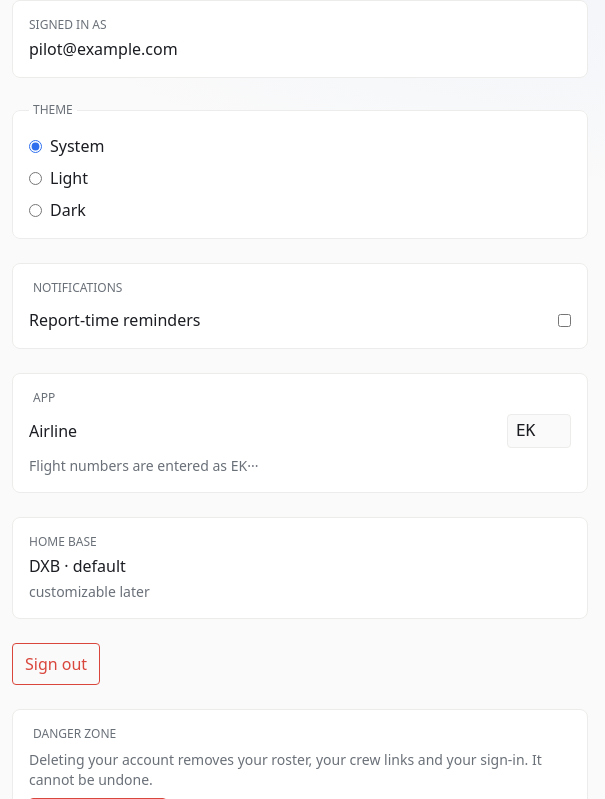
Test: SettingsView › Notifications › subscribes on toggle-on: requests permission, subscribes pushManager, and POSTs the subscription
What coordinates should you click on to do the following:
click the checkbox with test id "push-toggle"
I would click on:
 (564, 320)
Its box is [558, 314, 571, 326].
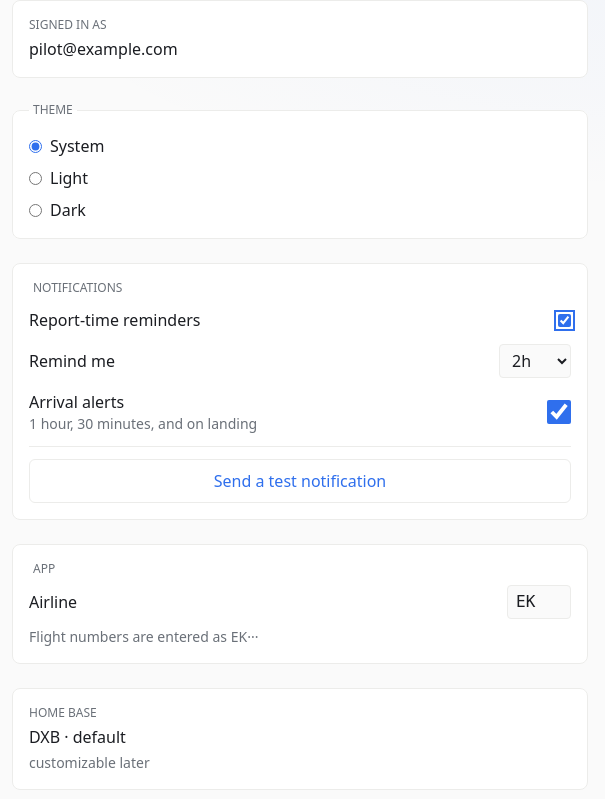
Result: the checkbox with test id "push-toggle" is checked at [558, 314, 571, 326]
Result: the dropdown with test id "push-lead" is shown at [499, 344, 571, 378]
